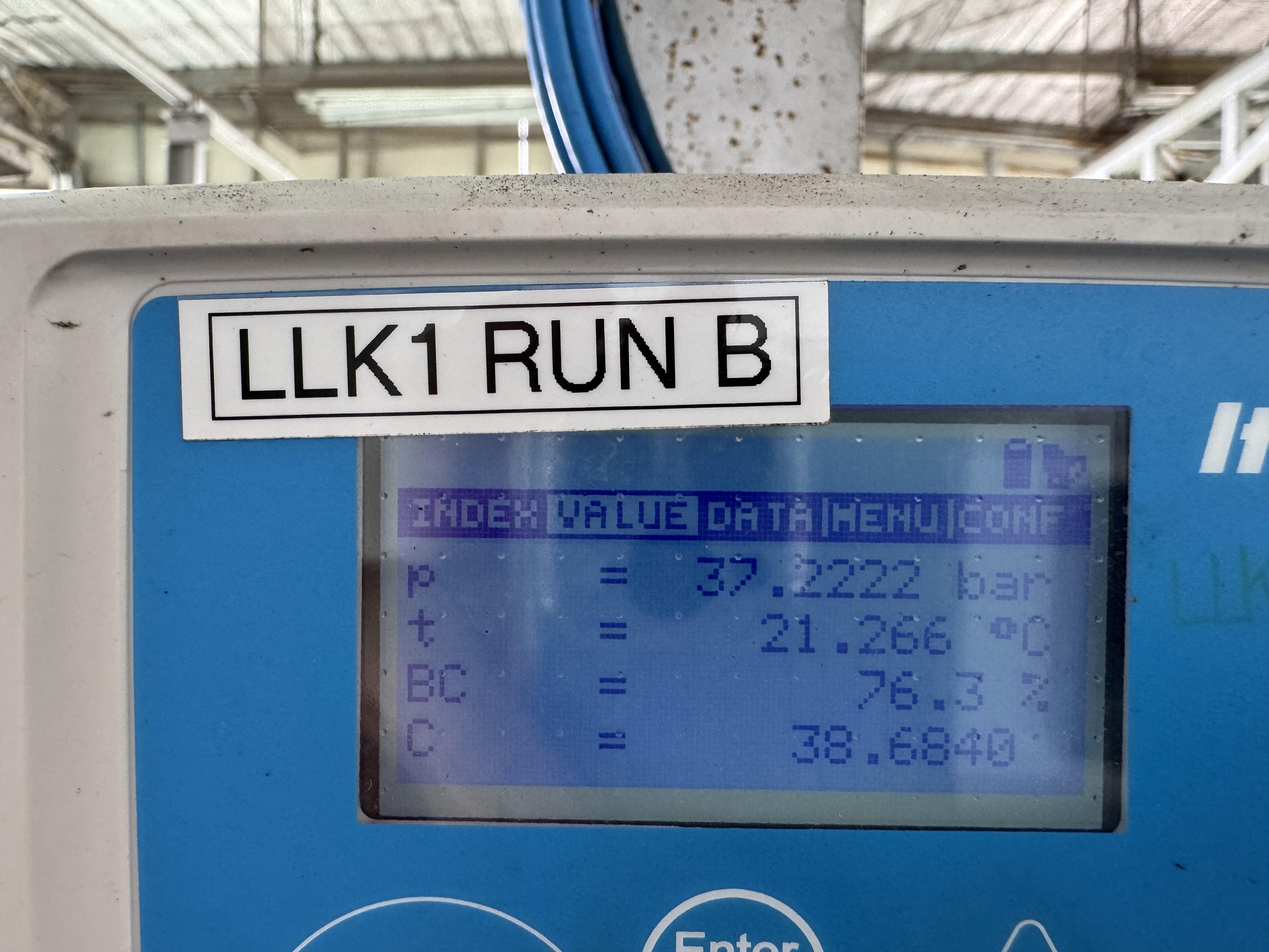digital_screen: (360, 406, 1132, 833)
